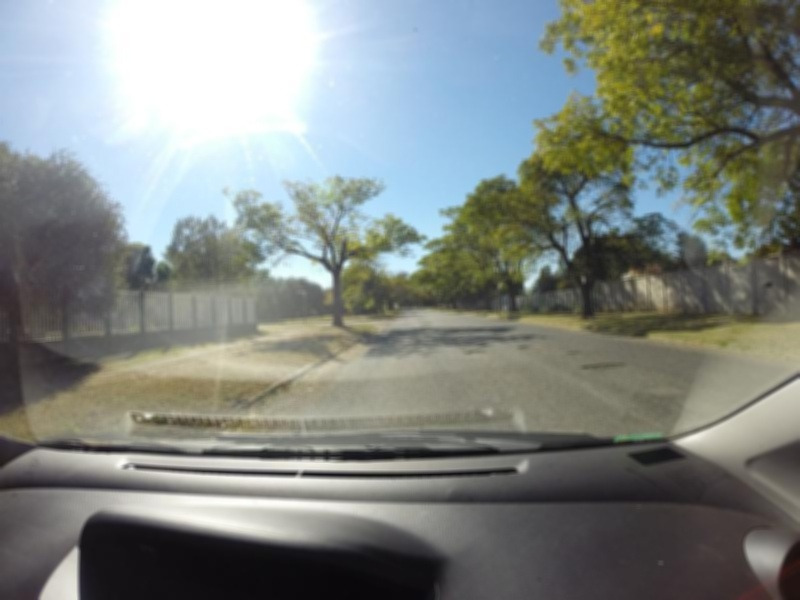pothole: (581, 359, 626, 369), (463, 348, 496, 360), (517, 341, 538, 356), (566, 350, 577, 354)
